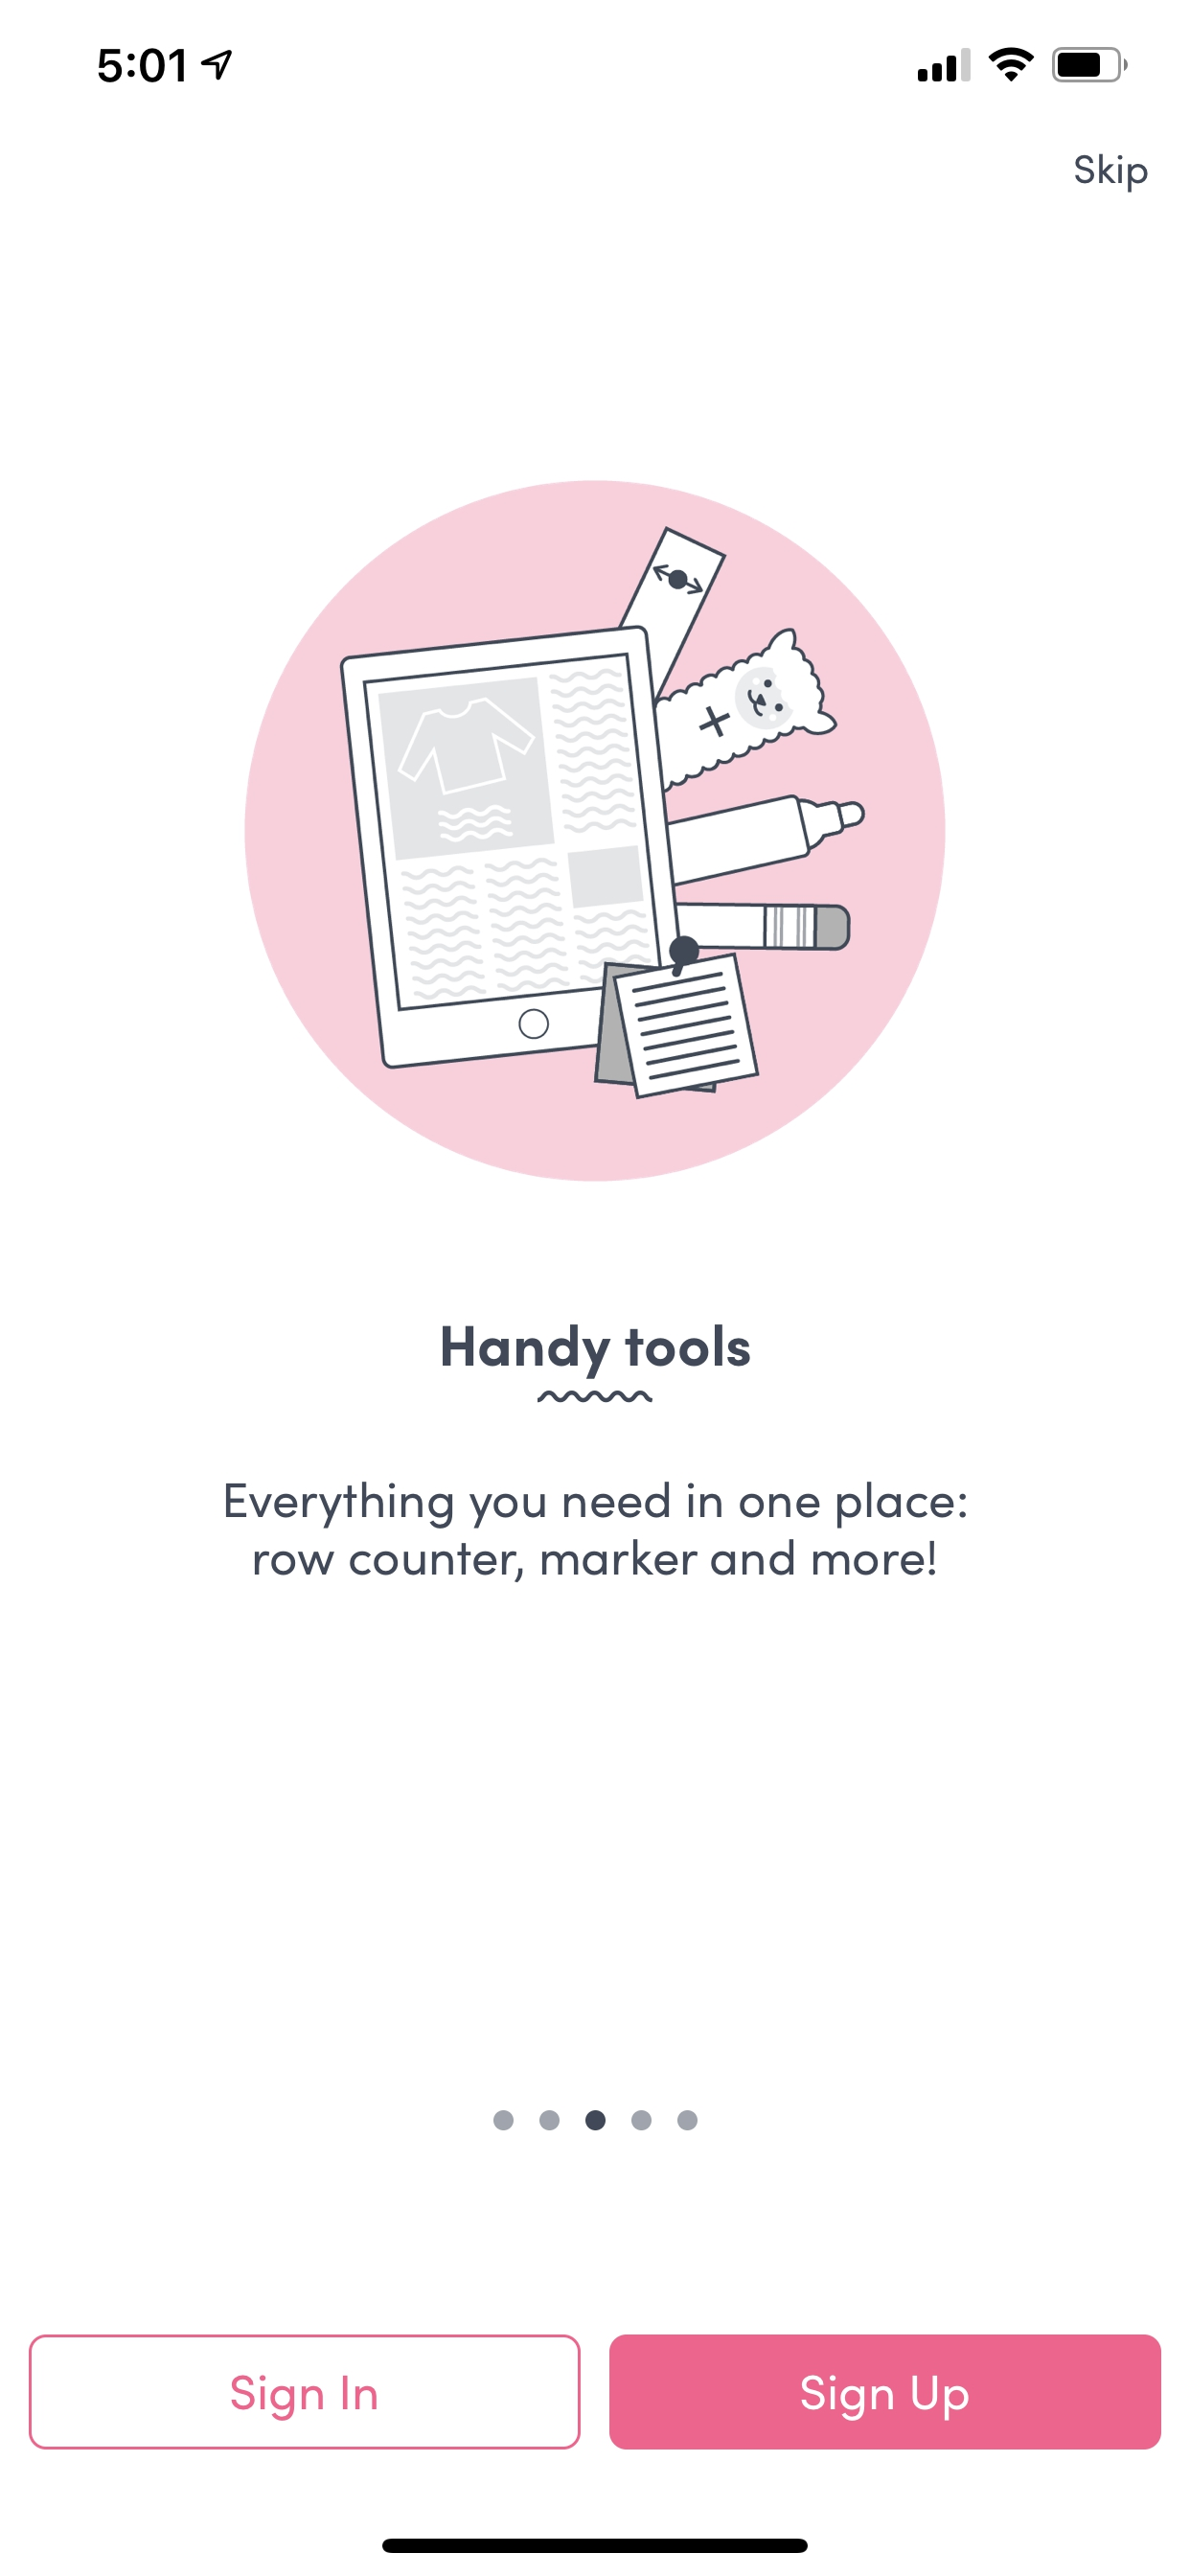Image: (245, 480, 947, 1183)
PageIndicator: (493, 2109, 697, 2131)
Text: (225, 1482, 966, 1582), (442, 1324, 750, 1378), (1073, 153, 1147, 194)
TextButton: (610, 2333, 1162, 2449), (28, 2333, 580, 2449)
UpperTaskBar: (97, 48, 1128, 84)
